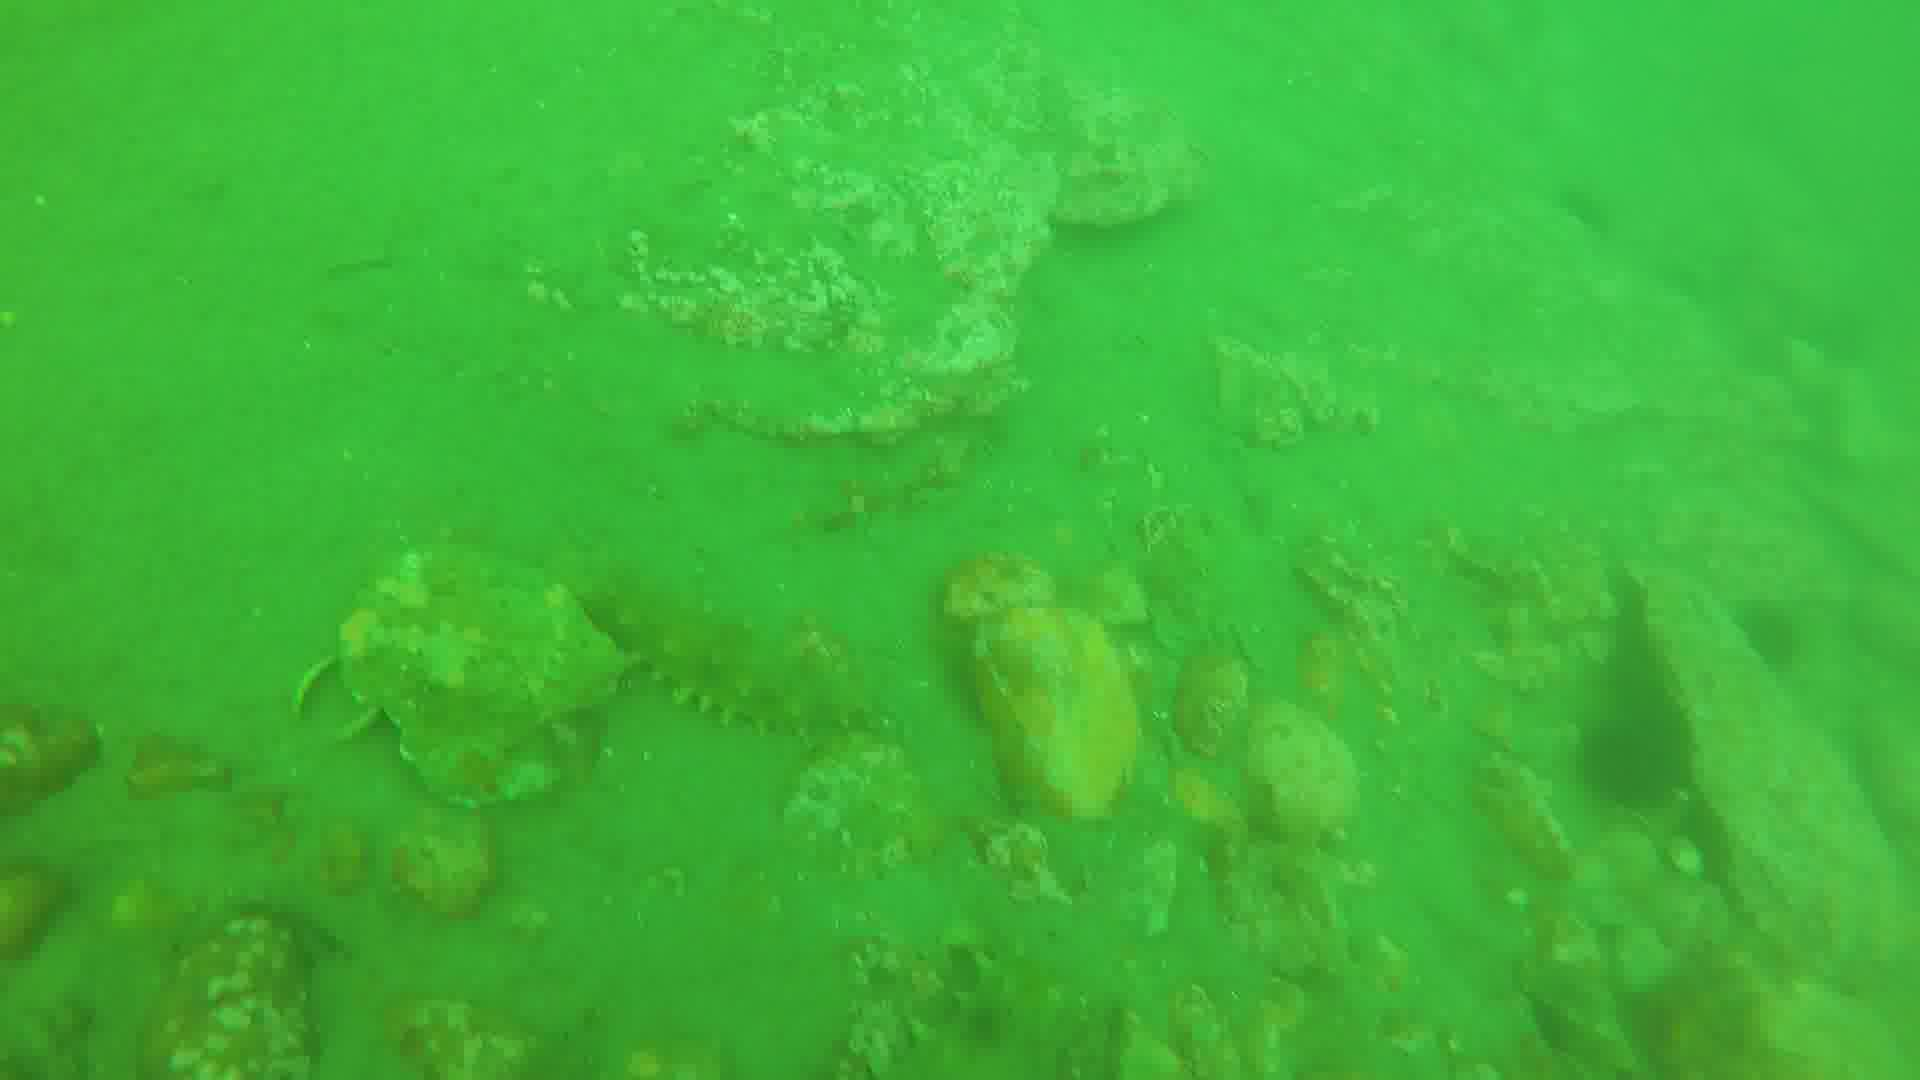echinus: (1592, 713, 1692, 808)
holothurian: (593, 567, 880, 735)
